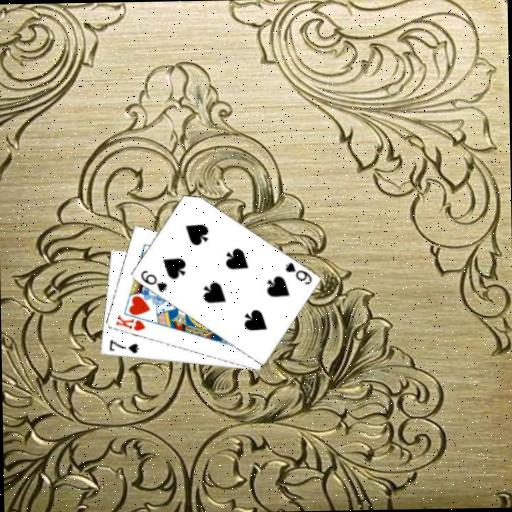6S: (137, 267, 169, 295), (282, 259, 314, 287)
7S: (105, 337, 140, 356)
KH: (112, 311, 146, 333)
